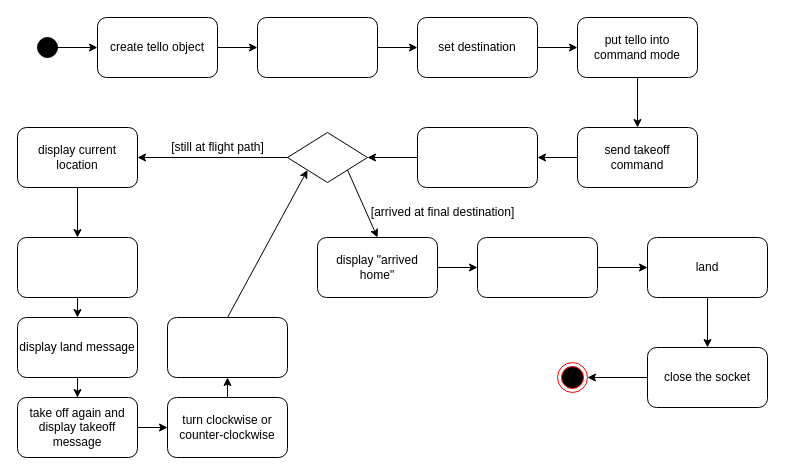
This 785x475 diagram has some shape labels left out. The centre of each missing label's shape, as x and y in pixels:
display "Start at Station 1" and "Destination: + (destination) ": (x=477, y=157)
fly and land on next destination: (x=77, y=267)
move foward: (x=227, y=347)
set flight path: (x=317, y=47)
turn to original direction: (x=537, y=267)
